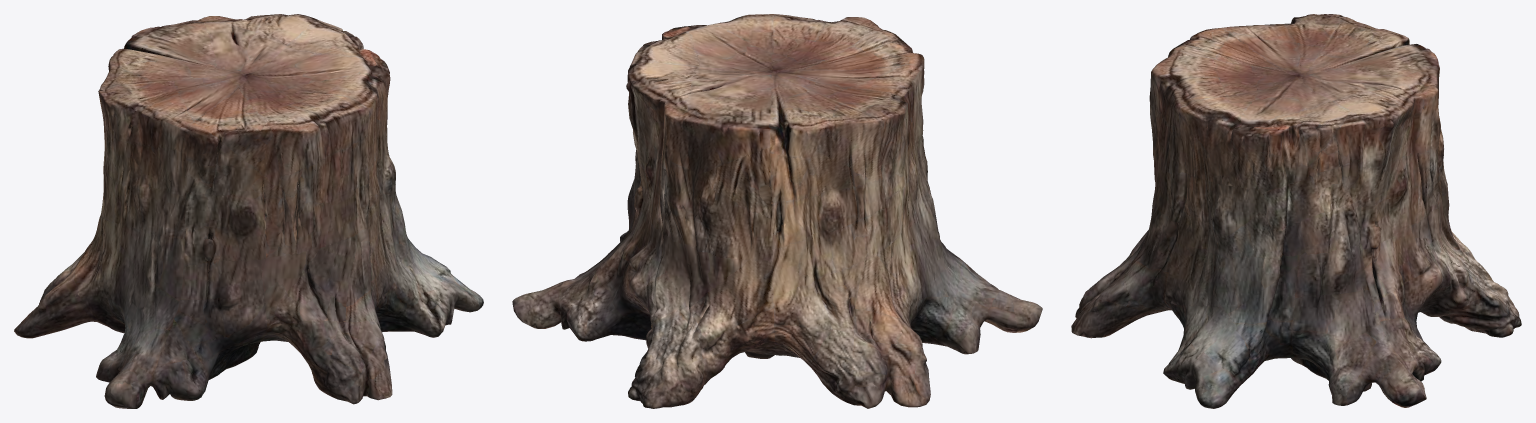
The picture shows the model from 3 angles, left to right: view 1: azimuth 30°, elevation 25°; view 2: azimuth 150°, elevation 25°; view 3: azimuth 270°, elevation 25°; orthographic projection. The views are drawn at different scales.
Size of the model in its own units: 1.89 by 1.16 by 1.89.
1 material, 1 textured.
